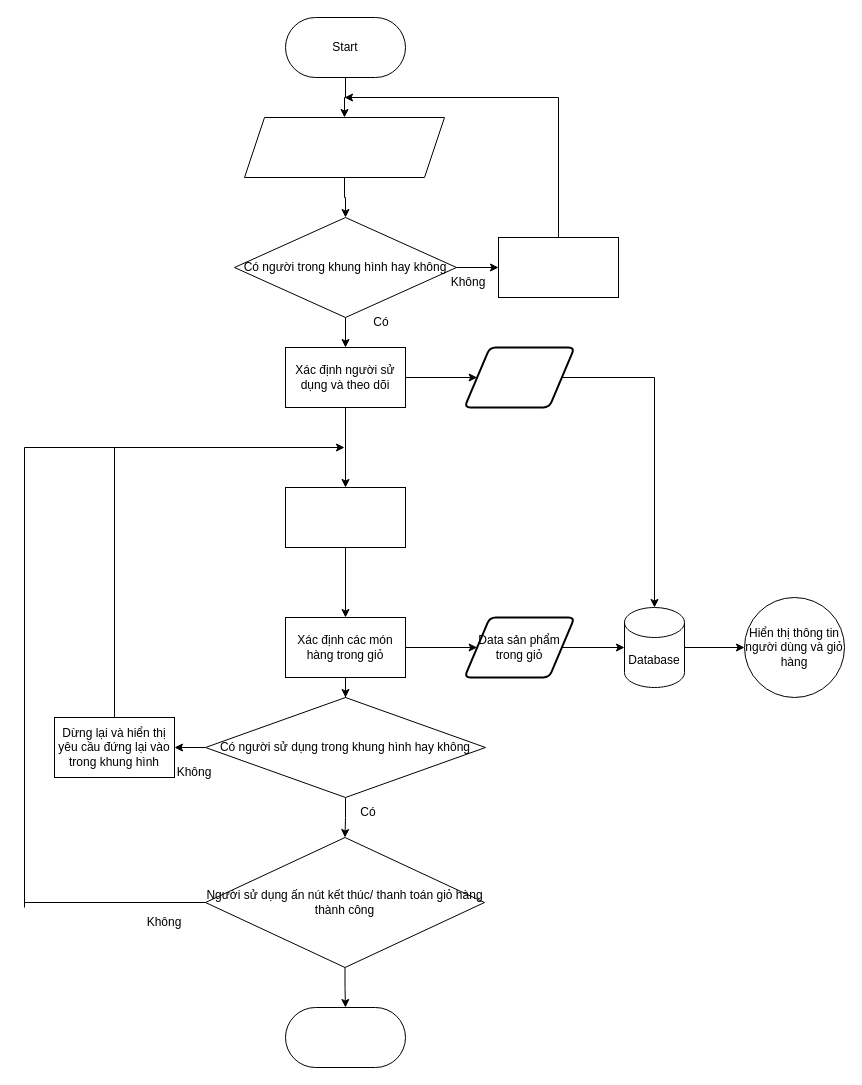
Some shapes in this 862 by 1085 pixel diagram are drawn without their labels. The shapes that lost their labels are listed below. From the top down, each one's box as (x1, y1, x2, y2) in pixels, then its label:
(244, 116, 444, 178): Người dùng ấn nút khở động lại
(498, 236, 618, 298): Hiển thị yêu cầu đứng trong khung hình và khởi động lại
(463, 346, 575, 408): Data Người sử dụng
(284, 486, 406, 548): Điều khiển xe đẩy
(284, 1006, 406, 1068): End
